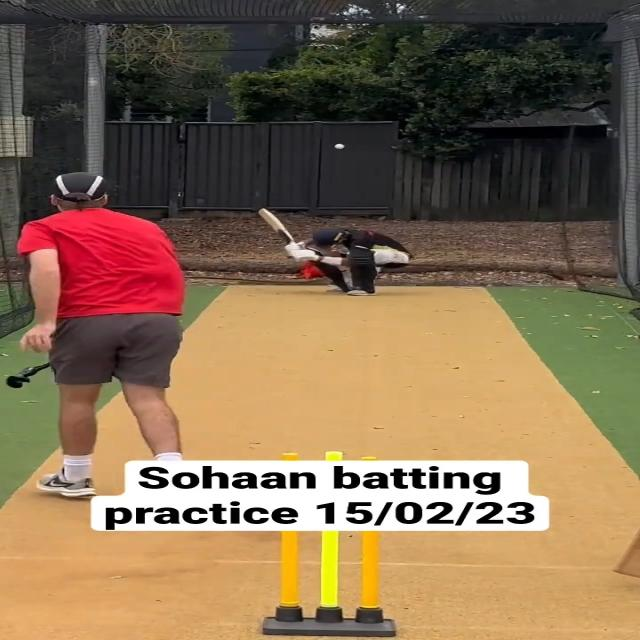ball: (333, 143, 345, 150)
stump: (265, 530, 397, 640)
